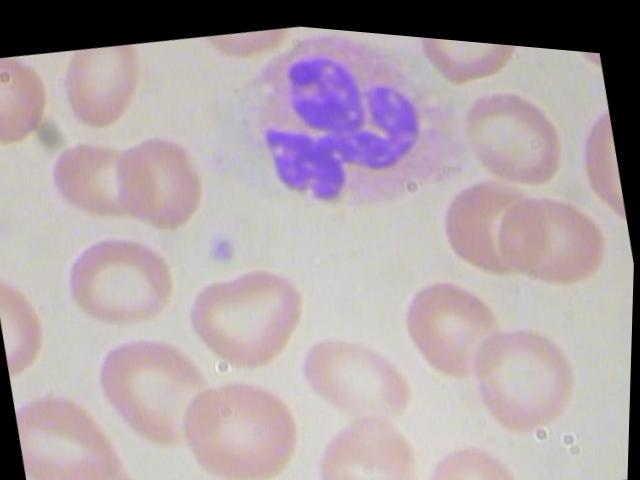Red Blood Cells: (86, 315, 237, 467), (174, 237, 324, 389), (51, 209, 192, 350), (288, 301, 427, 440), (388, 251, 519, 389), (484, 161, 616, 292), (170, 359, 312, 479), (448, 63, 580, 191), (463, 304, 588, 434), (11, 367, 142, 479), (302, 385, 441, 479), (104, 124, 214, 239), (41, 123, 151, 237), (49, 35, 160, 144), (412, 29, 535, 96), (0, 48, 68, 161)
White Blood Cells: (192, 14, 486, 247)
